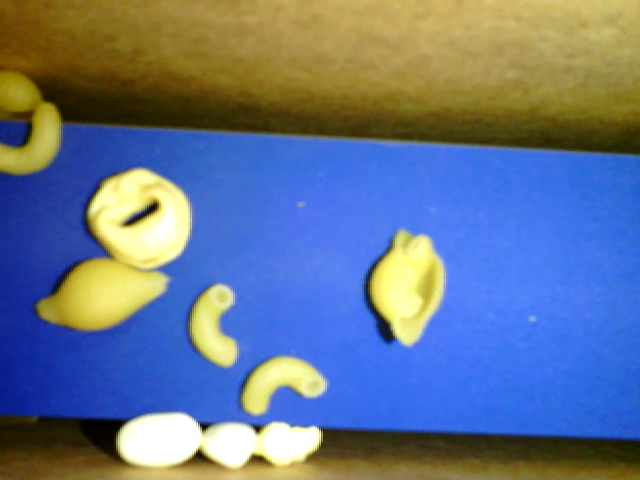elbow: (240, 353, 329, 420), (2, 101, 64, 177), (188, 282, 240, 367)
shell: (34, 255, 173, 335), (361, 227, 447, 351)
tortellini: (83, 165, 195, 269)
